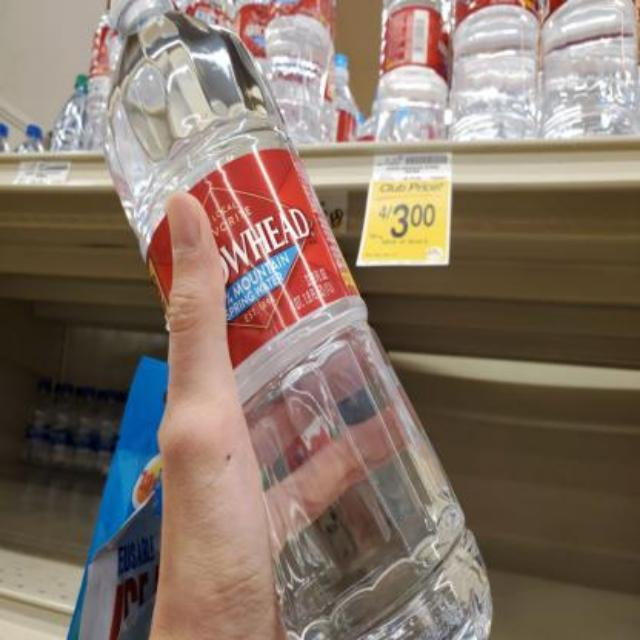bottle: (91, 0, 501, 638), (543, 3, 640, 135), (454, 2, 541, 139), (378, 0, 450, 143), (273, 2, 334, 144)
